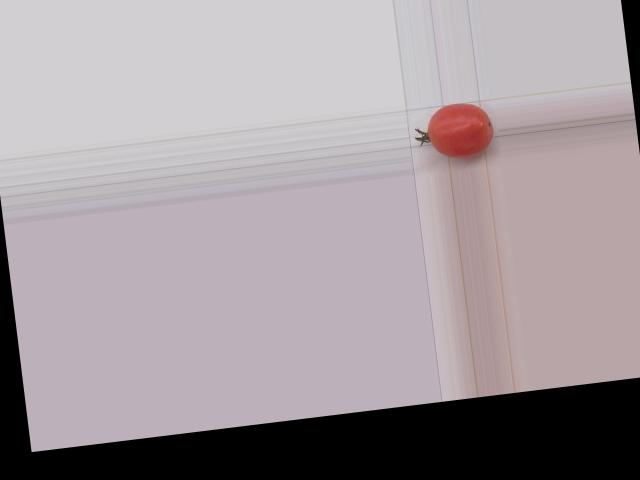tomato: (425, 99, 495, 161)
